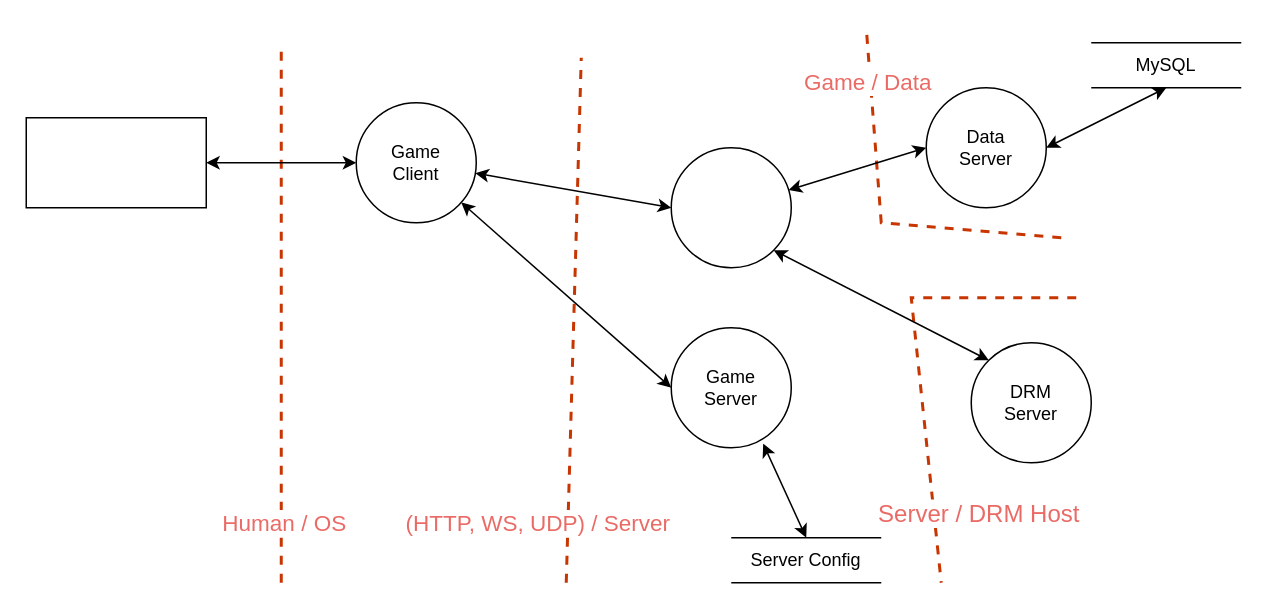
This 1269x611 diagram has some shape labels left out. Here are the shapes that lost their labels. From the top down, the centre of each, then its label:
the point at 115,162: Player
the point at 730,207: Central Server
